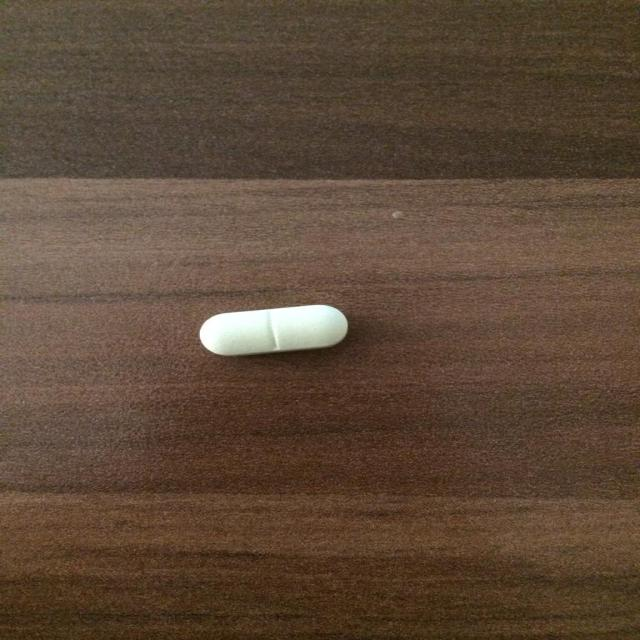pills: (174, 289, 368, 370)
